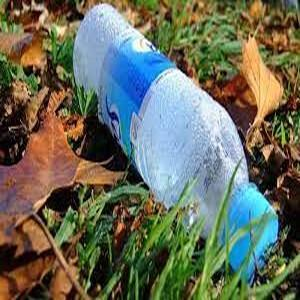Plastic: (73, 3, 277, 277)
